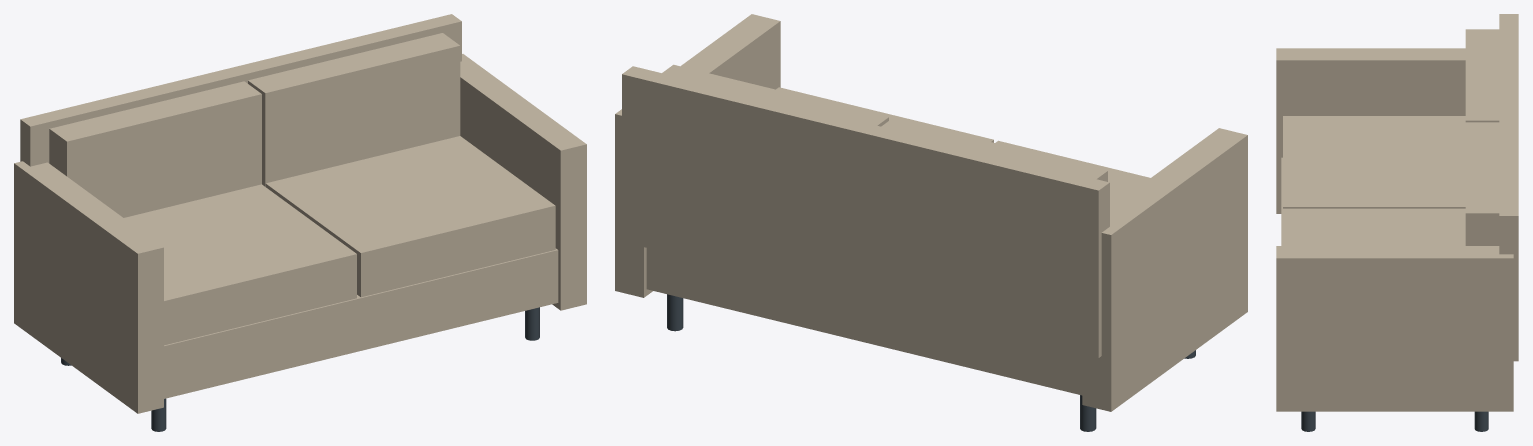
Rendered from sofa-4.glb.
3 renders of one model, left to right at view 1: azimuth 30°, elevation 25°; view 2: azimuth 150°, elevation 25°; view 3: azimuth 270°, elevation 25°, orthographic. The views are drawn at different scales.
Parts seen in each view (by area): view 1: sofa:4:editor; view 2: sofa:4:editor; view 3: sofa:4:editor.
Part boxes in pixels (x1,y1,x2,y2): sofa:4:editor: (14,14,586,431); sofa:4:editor: (615,14,1247,431); sofa:4:editor: (1276,14,1518,431).
Bounding box in the file's own units: 1.55 × 0.78 × 0.755.
